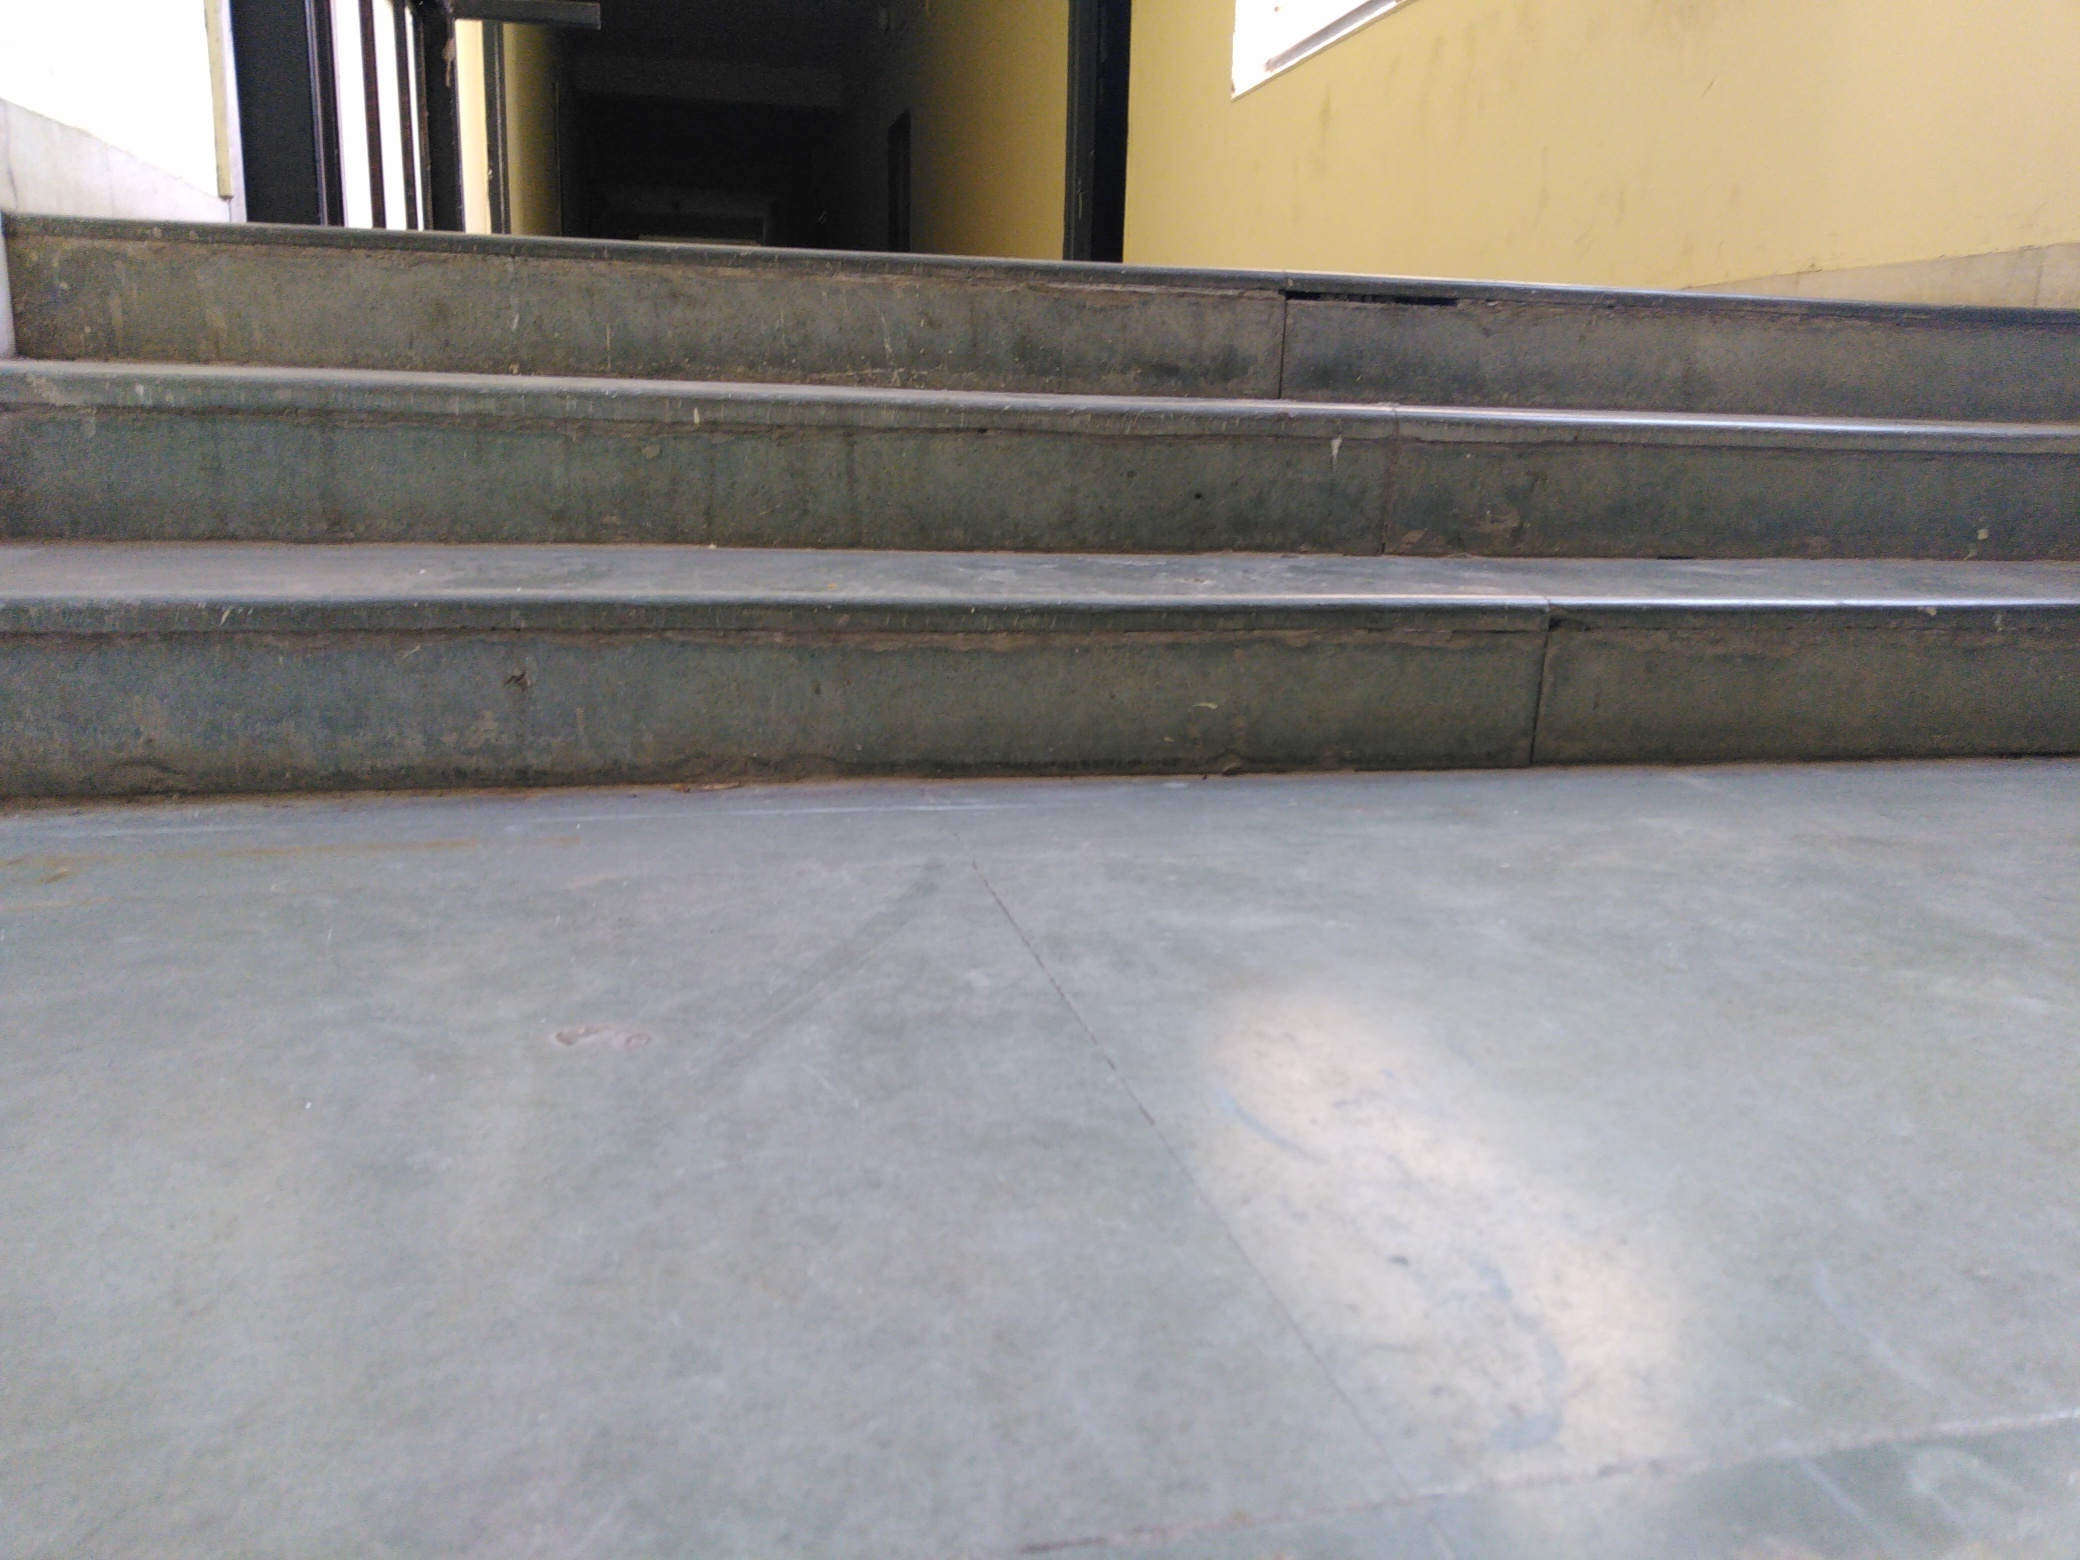stairs_up: (2, 272, 2078, 777)
